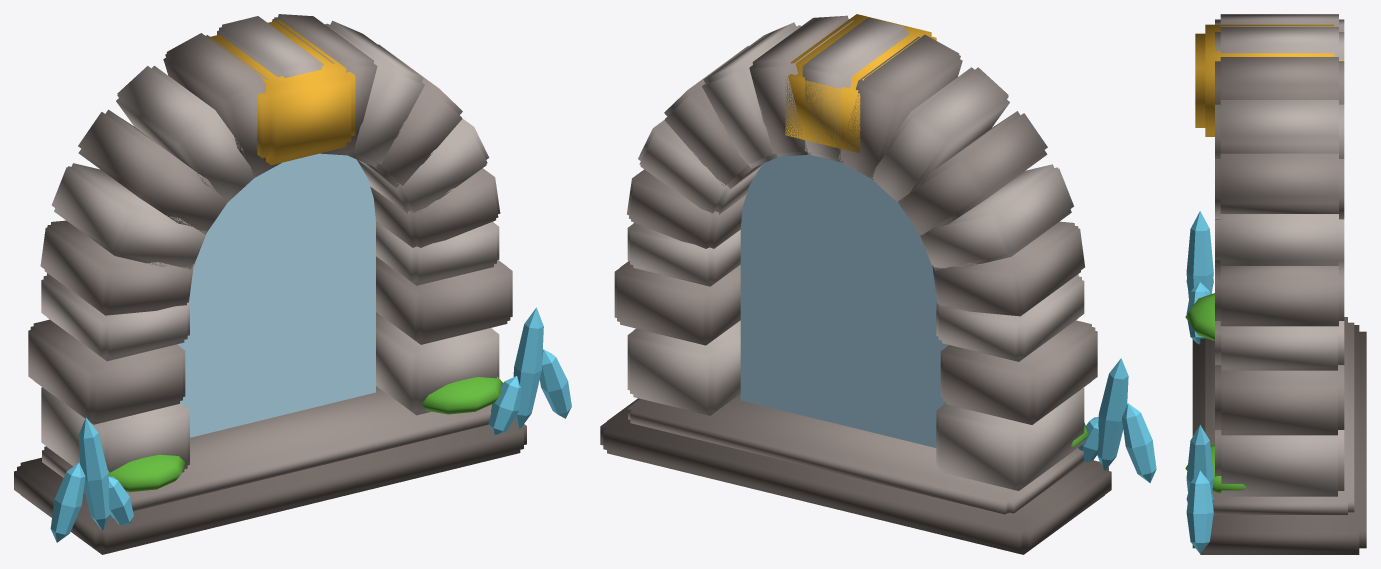
Rendered from portal.glb.
3 renders of one model, left to right at view 1: azimuth 30°, elevation 25°; view 2: azimuth 150°, elevation 25°; view 3: azimuth 270°, elevation 25°, orthographic. The views are drawn at different scales.
Parts seen in each view (by area): view 1: Portal; view 2: Portal; view 3: Portal.
Part boxes in pixels (x1,y1,x2,y2): Portal: (14, 14, 571, 554); Portal: (600, 14, 1156, 554); Portal: (1185, 14, 1366, 554).
Size of the model in its own units: 2.34 by 1.86 by 0.73.
